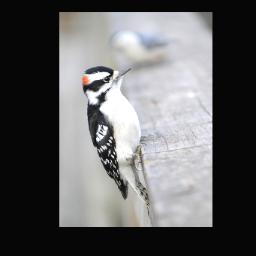Woodpecker: (75, 59, 152, 217)
